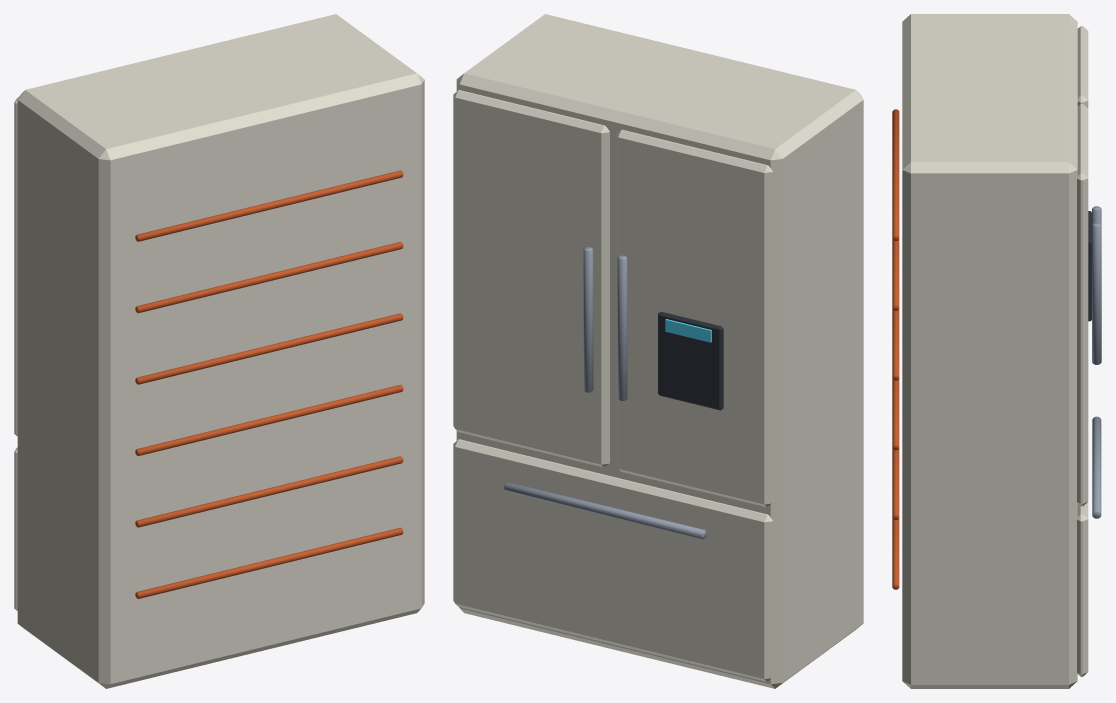
Rendered from prop_fridge.obj.
The picture shows the model from 3 angles, left to right: view 1: azimuth 30°, elevation 25°; view 2: azimuth 150°, elevation 25°; view 3: azimuth 270°, elevation 25°; orthographic projection. The views are drawn at different scales.
Parts seen in each view (by area): view 1: Body, Coil_1, Coil_3, Coil_2, Coil_4, Coil_5, Coil_0, DoorUL, DoorBot; view 2: Body, DoorUR, DoorBot, DoorUL, Dispenser, HandleBot, HandleUR, HandleUL, DispLED; view 3: Body, DoorUR, DoorBot, HandleUR, Coil_5, HandleBot, DoorUL, Coil_2, Coil_3, Coil_0, Coil_1, Coil_4 (+1 smaller).
Boxes of the visible parts, bbox=[...] form: Body: bbox=[17, 14, 424, 688]; Coil_1: bbox=[135, 456, 403, 527]; Coil_3: bbox=[135, 313, 403, 384]; Coil_2: bbox=[135, 384, 403, 456]; Coil_4: bbox=[135, 242, 403, 313]; Coil_5: bbox=[135, 170, 403, 241]; Coil_0: bbox=[135, 527, 403, 598]; DoorUL: bbox=[14, 96, 19, 436]; DoorBot: bbox=[14, 447, 17, 610]; Body: bbox=[456, 14, 863, 688]; DoorUR: bbox=[453, 90, 609, 467]; DoorBot: bbox=[453, 439, 772, 681]; DoorUL: bbox=[616, 129, 772, 507]; Dispenser: bbox=[658, 311, 723, 410]; HandleBot: bbox=[504, 482, 706, 539]; HandleUR: bbox=[583, 247, 593, 392]; HandleUL: bbox=[617, 255, 627, 401]; DispLED: bbox=[665, 319, 711, 342]; Body: bbox=[902, 14, 1077, 688]; DoorUR: bbox=[1077, 103, 1088, 506]; DoorBot: bbox=[1077, 502, 1088, 676]; HandleUR: bbox=[1092, 222, 1101, 364]; Coil_5: bbox=[892, 109, 899, 240]; HandleBot: bbox=[1092, 416, 1101, 518]; DoorUL: bbox=[1077, 26, 1088, 108]; Coil_2: bbox=[892, 378, 899, 450]; Coil_3: bbox=[892, 309, 899, 380]; Coil_0: bbox=[892, 518, 899, 589]; Coil_1: bbox=[892, 448, 899, 519]; Coil_4: bbox=[892, 239, 899, 310].
Size of the model in its own units: 1.72 by 2.72 by 0.9781.
